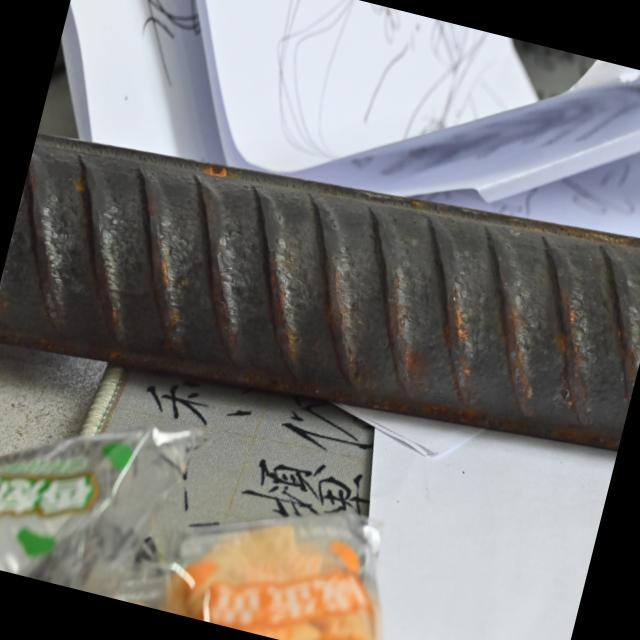ribbed bar: (0, 82, 640, 497)
